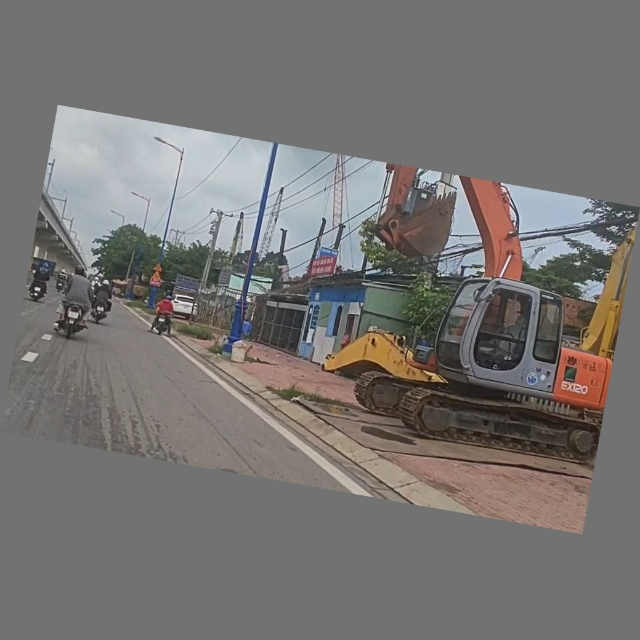W.203c: (152, 262, 165, 273)
W.245a: (150, 271, 163, 281)
